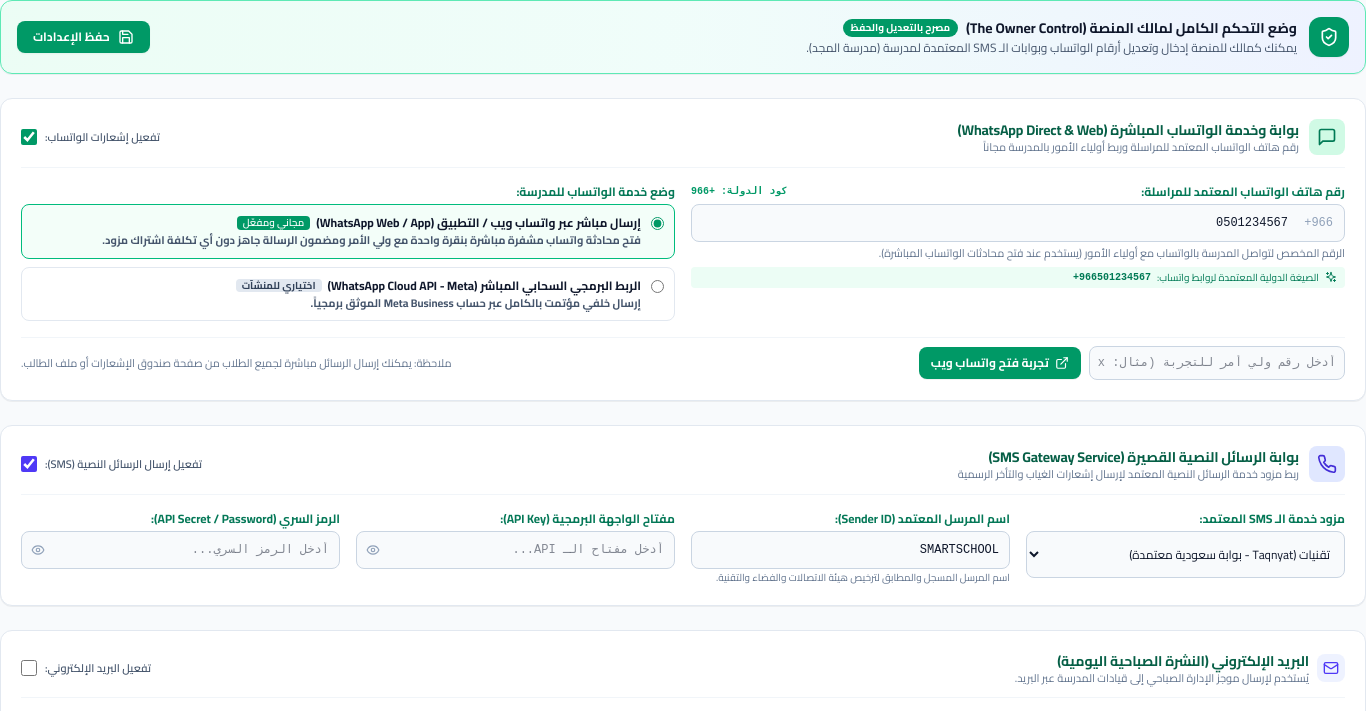
Test: SchoolMessagingGatewaysTab › keeps failure messages visible
The width and height of the screenshot is (1366, 711).
Click the button "حفظ الإعدادات": (83, 37) top-left (17, 21), bottom-right (150, 53)
Wait 5000 ms
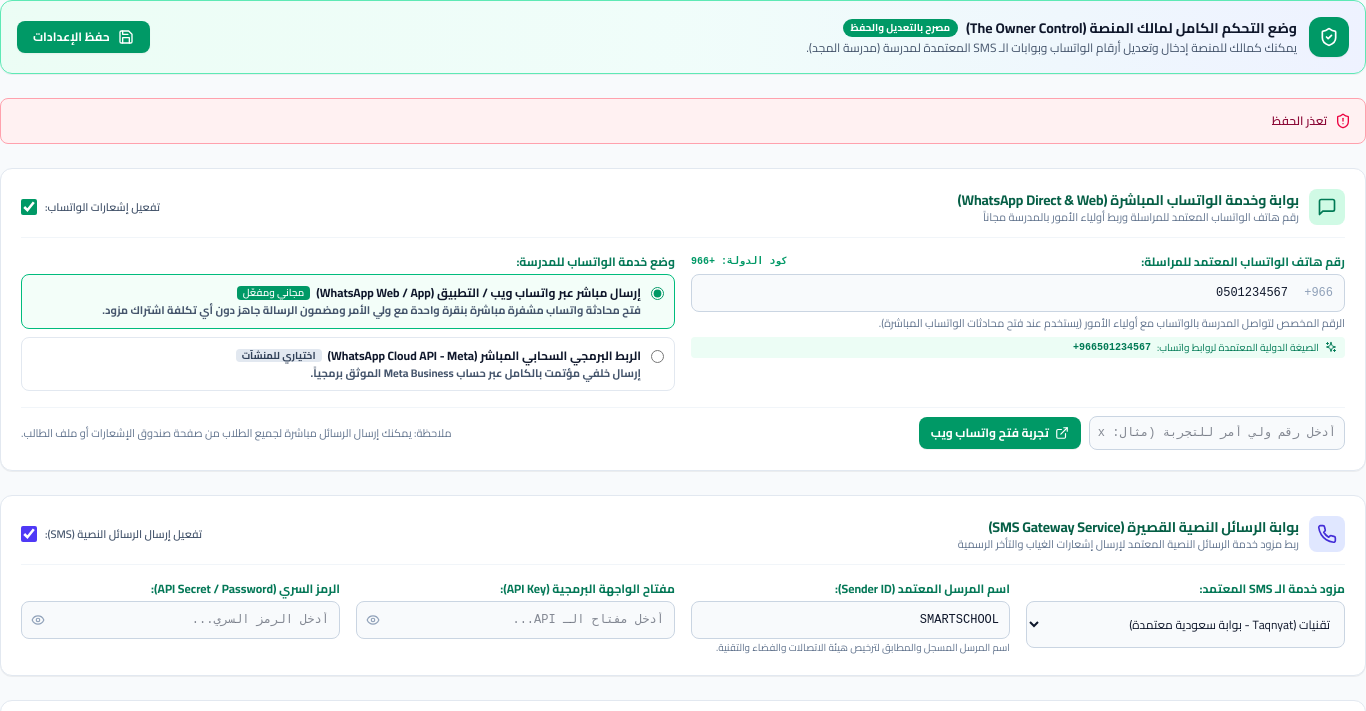
Expected: the text "تعذر الحفظ" is shown, top-left (1272, 113), bottom-right (1327, 129)
